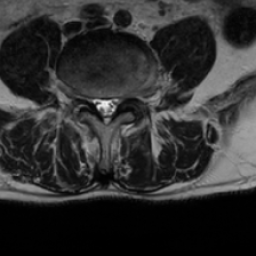CCS_normal: (100, 91, 112, 127)
LFS_severe_stenosis: (121, 87, 130, 109)
LLS_normal: (112, 91, 120, 117)
RFS_severe_stenosis: (81, 89, 92, 112)
RLS_stenosis: (92, 91, 102, 117)
